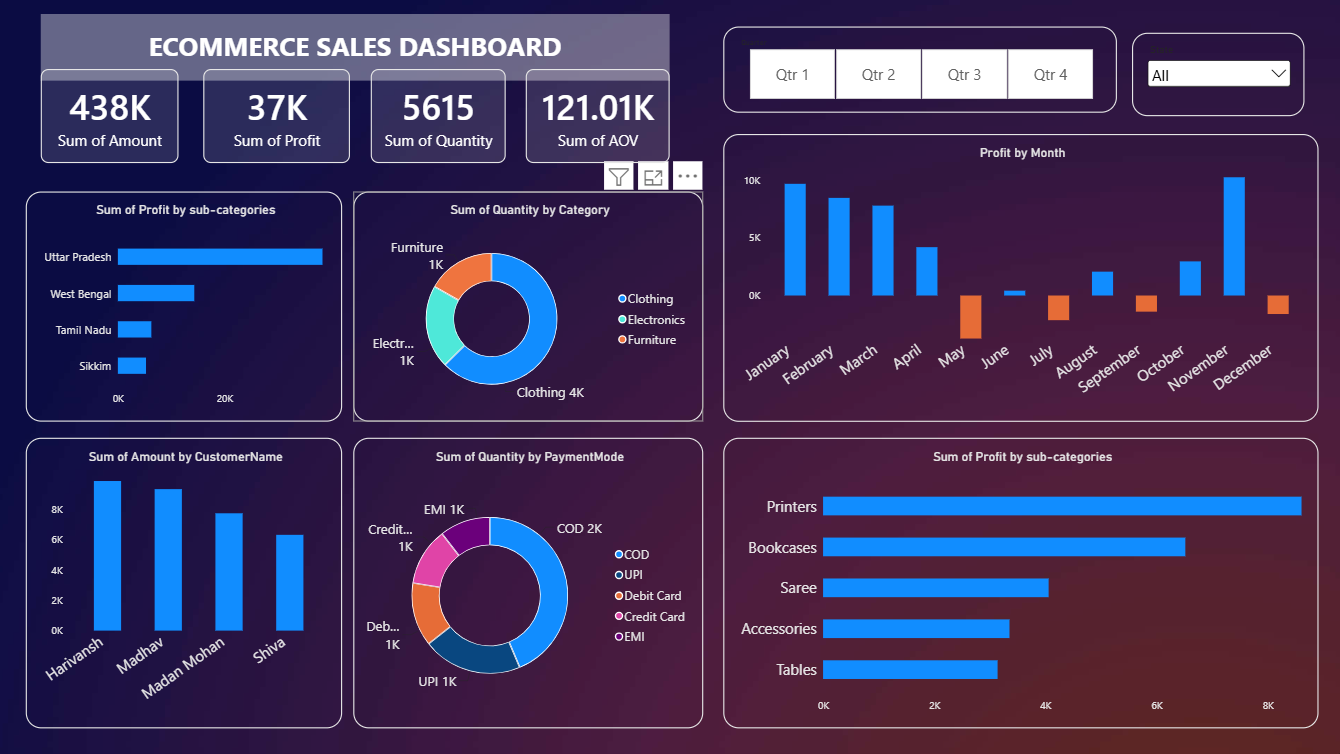

What the dashboard file says about the page in this screenshot:
{"tool":"powerbi","page":{"name":"Page 1","canvas":[1920,1080],"ordinal":0},"visuals":[{"type":"textbox","box":[62.8,21.6,898.1,95.2],"z":0},{"type":"columnChart","title":"Profit by Month","fields":{"Category":["Orders.Order Date.Variation.Date Hierarchy.Month"],"Y":["Sum(Details.Profit)"]},"box":[1036.6,192.6,850.5,411.2],"z":1000},{"type":"barChart","title":"Sum of Profit by sub-categories","fields":{"Category":["Details.Sub-Category"],"Y":["Sum(Details.Profit)"]},"box":[1036.6,627.6,850.5,415.5],"z":2000},{"type":"donutChart","fields":{"Category":["Details.Category"],"Y":["Sum(Details.Quantity)"]},"box":[508.6,274.8,499.9,328.9],"z":3000},{"type":"donutChart","fields":{"Y":["Sum(Details.Quantity)"],"Category":["Details.PaymentMode"]},"box":[508.6,627.6,499.9,415.5],"z":4000},{"type":"card","fields":{"Values":["Sum(Details.Amount)"]},"box":[61.8,99.6,196.9,134.2],"z":5000},{"type":"card","fields":{"Values":["Sum(Details.Profit)"]},"box":[295.5,99.6,209.9,134.2],"z":6000},{"type":"card","fields":{"Values":["Sum(Details.Quantity)"]},"box":[533.6,99.6,192.6,134.2],"z":7000},{"type":"card","fields":{"Values":["Sum(Details.AOV)"]},"box":[755.3,99.6,205.6,134.2],"z":8000},{"type":"barChart","title":"Sum of Profit by sub-categories","fields":{"Category":["Orders.State"],"Y":["Sum(Details.Amount)"]},"box":[41.1,274.8,452.3,328.9],"z":8001},{"type":"columnChart","fields":{"Category":["Orders.CustomerName"],"Y":["Sum(Details.Amount)"]},"box":[41.1,627.6,452.3,415.5],"z":8002},{"type":"slicer","fields":{"Values":["Orders.Order Date.Variation.Date Hierarchy.Quarter"]},"box":[1036.6,39,562.7,123.4],"z":8003},{"type":"slicer","fields":{"Values":["Orders.State"]},"box":[1620.9,47.6,246.7,119],"z":8004}]}

Visuals, with their boxes in screenshot pixels (x1, y1, x2, y2), scaled from the page's 1920x1080 canvas onto the 1340x754 screenshot:
textbox: detection(44, 15, 671, 82)
"Profit by Month" columnChart: detection(723, 134, 1317, 422)
"Sum of Profit by sub-categories" barChart: detection(723, 438, 1317, 728)
donutChart - Details.Category x Sum(Details.Quantity): detection(355, 192, 704, 421)
donutChart - Sum(Details.Quantity) x Details.PaymentMode: detection(355, 438, 704, 728)
card - Sum(Details.Amount): detection(43, 70, 181, 163)
card - Sum(Details.Profit): detection(206, 70, 353, 163)
card - Sum(Details.Quantity): detection(372, 70, 507, 163)
card - Sum(Details.AOV): detection(527, 70, 671, 163)
"Sum of Profit by sub-categories" barChart: detection(29, 192, 344, 421)
columnChart - Orders.CustomerName x Sum(Details.Amount): detection(29, 438, 344, 728)
slicer - Orders.Order Date.Variation.Date Hierarchy.Quarter: detection(723, 27, 1116, 113)
slicer - Orders.State: detection(1131, 33, 1303, 116)
